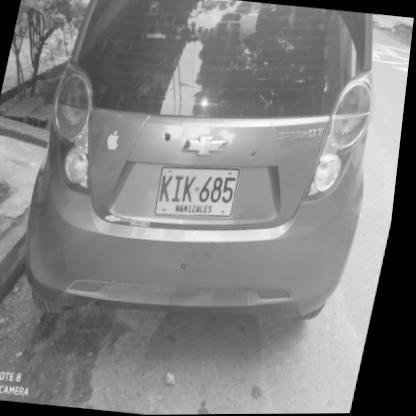placa: (149, 159, 254, 227)
